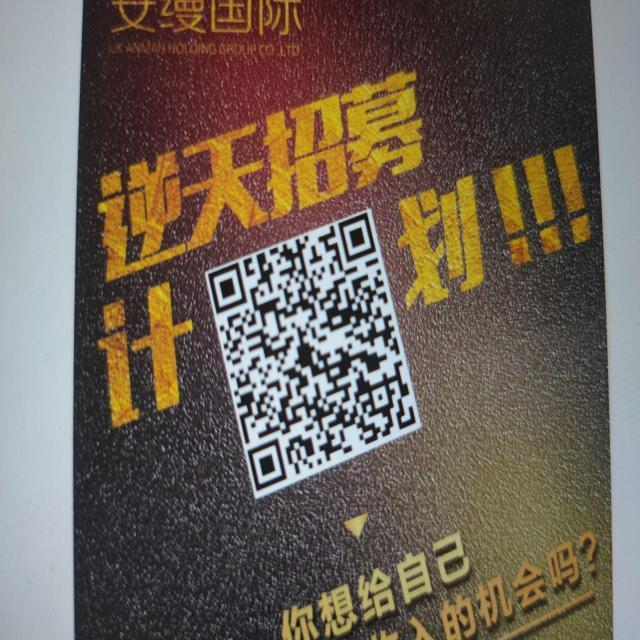qr_code: (208, 213, 415, 491)
